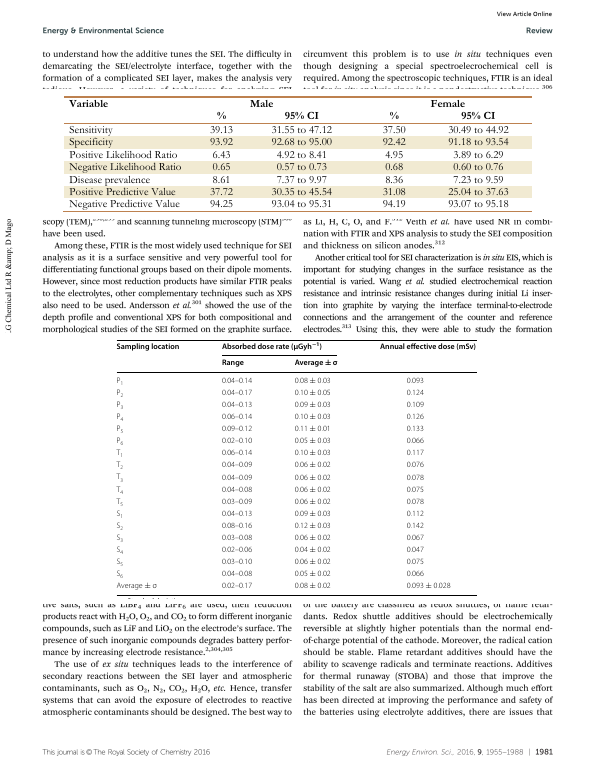borderless: (115, 338, 477, 595), (64, 94, 532, 211)
cell: (68, 162, 182, 174), (68, 199, 180, 211), (68, 149, 178, 161), (68, 187, 176, 199), (221, 341, 323, 352), (68, 174, 150, 186), (379, 342, 477, 352), (270, 125, 332, 137), (447, 125, 509, 137), (270, 137, 332, 149), (447, 137, 509, 149), (270, 187, 332, 199), (447, 187, 509, 199), (270, 199, 332, 211), (447, 199, 509, 211), (116, 342, 180, 352), (275, 149, 327, 161), (452, 149, 504, 161), (275, 162, 327, 174), (452, 162, 504, 174), (275, 174, 327, 186), (452, 174, 504, 186), (68, 125, 113, 137), (68, 137, 113, 149), (294, 358, 338, 368), (406, 582, 452, 591), (68, 98, 109, 108), (115, 582, 158, 591), (294, 376, 332, 386), (294, 388, 332, 398), (294, 497, 332, 507), (294, 509, 332, 519), (429, 98, 465, 108), (294, 401, 332, 410), (294, 413, 332, 422), (294, 425, 332, 434), (294, 437, 332, 446), (294, 449, 332, 458), (294, 461, 332, 470), (294, 473, 332, 482), (294, 485, 332, 494), (294, 522, 332, 531), (294, 534, 332, 543), (294, 546, 332, 555), (294, 558, 332, 567), (294, 570, 332, 579), (294, 582, 332, 591), (283, 111, 319, 120), (460, 111, 496, 120), (221, 376, 253, 386), (221, 388, 253, 398), (221, 497, 253, 507), (221, 509, 253, 519), (208, 125, 233, 137), (381, 125, 406, 137), (208, 137, 233, 149), (381, 137, 406, 149), (208, 187, 233, 199), (381, 187, 406, 199), (208, 199, 233, 211), (381, 199, 406, 211), (221, 401, 253, 410), (221, 413, 253, 422), (221, 425, 253, 434), (221, 437, 253, 446), (221, 449, 253, 458), (221, 461, 253, 470), (221, 473, 253, 482), (221, 485, 253, 494), (221, 522, 253, 531), (221, 534, 253, 543), (221, 546, 253, 555), (221, 558, 253, 567), (221, 570, 253, 579), (221, 582, 253, 591), (248, 98, 274, 108), (221, 358, 245, 368), (211, 149, 231, 161), (211, 162, 231, 174), (211, 174, 231, 186), (384, 149, 403, 161), (384, 162, 403, 174), (384, 174, 403, 186), (406, 376, 425, 386), (406, 388, 425, 398), (406, 497, 425, 507), (406, 509, 425, 519), (406, 401, 425, 410), (406, 413, 425, 422), (406, 425, 425, 434), (406, 437, 425, 446), (406, 449, 425, 458), (406, 461, 425, 470), (406, 473, 425, 482), (406, 485, 425, 494), (406, 522, 425, 531), (406, 534, 425, 543), (406, 546, 425, 555), (406, 558, 425, 567), (406, 570, 425, 579), (115, 449, 124, 460), (115, 461, 124, 472), (115, 473, 124, 484), (115, 485, 124, 496), (115, 497, 124, 508), (115, 509, 124, 520), (115, 558, 124, 569), (115, 570, 124, 581), (215, 111, 226, 120), (388, 111, 399, 120), (115, 522, 124, 532), (115, 534, 124, 544), (115, 546, 124, 556), (116, 376, 124, 387), (116, 388, 124, 399), (116, 437, 124, 448), (116, 401, 124, 411), (116, 413, 124, 423), (116, 425, 124, 435)
